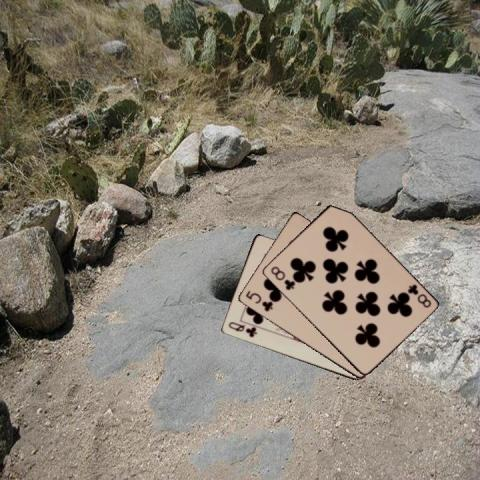5c: (242, 287, 274, 313)
8c: (267, 264, 296, 292), (404, 282, 433, 310)
Qc: (225, 318, 258, 338)
